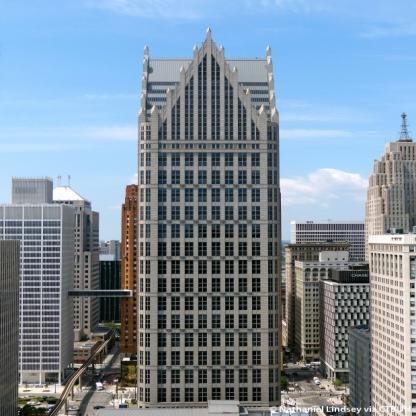Building Outline: (137, 27, 281, 416)
Dont: (95, 400, 327, 416)
Facade: (139, 140, 280, 416)
Floor: (143, 387, 276, 405), (143, 313, 276, 330), (143, 331, 276, 348), (143, 350, 276, 367), (143, 368, 276, 385), (143, 169, 276, 185), (143, 187, 276, 203), (143, 205, 276, 221), (143, 223, 276, 239), (143, 241, 276, 257), (143, 259, 276, 275), (143, 277, 276, 293), (143, 295, 276, 311), (143, 406, 276, 416)
Floor Slab: (143, 293, 276, 295), (143, 275, 276, 277), (143, 239, 276, 241), (143, 221, 276, 223), (143, 203, 276, 205), (143, 185, 276, 187), (143, 167, 276, 169), (143, 405, 276, 406), (143, 367, 276, 368), (143, 348, 276, 349), (143, 330, 276, 331), (143, 312, 276, 313), (143, 257, 276, 258), (143, 385, 276, 386)
Glass Wall: (203, 54, 207, 140), (211, 54, 215, 140), (198, 61, 202, 140), (216, 62, 220, 140), (190, 74, 194, 140), (224, 75, 228, 140), (229, 83, 233, 140), (185, 83, 188, 140), (171, 103, 175, 140), (243, 105, 247, 140), (177, 96, 180, 140), (147, 82, 180, 86), (238, 97, 241, 140), (252, 388, 261, 402), (158, 388, 167, 402), (171, 388, 180, 402), (198, 388, 207, 402), (225, 388, 234, 402), (251, 153, 260, 167), (171, 153, 180, 167), (198, 153, 207, 167), (225, 153, 234, 167), (251, 170, 260, 184), (158, 170, 167, 184), (171, 170, 180, 184), (198, 170, 207, 184), (225, 170, 234, 184), (251, 189, 260, 203), (158, 189, 167, 203), (171, 189, 180, 203), (198, 189, 207, 203), (225, 189, 234, 203), (251, 206, 260, 220), (158, 206, 167, 220), (171, 206, 180, 220), (198, 206, 207, 220), (225, 206, 234, 220), (251, 224, 260, 238), (158, 224, 167, 238), (171, 224, 180, 238), (198, 224, 207, 238), (225, 224, 234, 238), (251, 242, 260, 256), (158, 242, 167, 256), (171, 242, 180, 256), (198, 242, 207, 256), (225, 242, 234, 256), (251, 260, 260, 274), (158, 260, 167, 274), (171, 260, 180, 274), (198, 260, 207, 274), (225, 260, 234, 274), (251, 278, 260, 292), (158, 278, 167, 292), (171, 278, 180, 292), (198, 278, 207, 292), (225, 278, 234, 292), (251, 297, 260, 311), (158, 297, 167, 311), (171, 297, 180, 311), (198, 297, 207, 311), (225, 297, 234, 311), (252, 315, 261, 329), (158, 315, 167, 329), (171, 315, 180, 329), (198, 315, 207, 329), (225, 315, 234, 329), (252, 333, 261, 347), (158, 333, 167, 347), (171, 333, 180, 347), (198, 333, 207, 347), (225, 333, 234, 347), (252, 351, 261, 365), (158, 351, 167, 365), (171, 351, 180, 365), (198, 351, 207, 365), (225, 351, 234, 365), (252, 370, 261, 384), (158, 370, 167, 384), (171, 370, 180, 384), (198, 370, 207, 384), (225, 370, 234, 384), (158, 153, 167, 167), (238, 82, 269, 86), (185, 388, 193, 402), (212, 388, 220, 402), (239, 388, 247, 402), (185, 153, 193, 167), (212, 153, 220, 167), (239, 153, 247, 167), (185, 170, 193, 184), (212, 170, 220, 184), (239, 170, 247, 184), (185, 189, 193, 203), (212, 189, 220, 203), (239, 189, 247, 203), (185, 206, 193, 220), (212, 206, 220, 220), (239, 206, 247, 220), (185, 224, 193, 238), (212, 224, 220, 238), (239, 224, 247, 238), (185, 242, 193, 256), (212, 242, 220, 256), (239, 242, 247, 256), (185, 260, 193, 274), (212, 260, 220, 274), (239, 260, 247, 274), (185, 278, 193, 292), (212, 278, 220, 292), (239, 278, 247, 292), (185, 297, 193, 311), (212, 297, 220, 311), (239, 315, 247, 329), (185, 315, 193, 329), (212, 315, 220, 329), (185, 333, 193, 347), (212, 333, 220, 347), (239, 333, 247, 347), (185, 351, 193, 365), (212, 351, 220, 365), (239, 351, 247, 365), (185, 370, 193, 384), (212, 370, 220, 384), (239, 370, 247, 384), (239, 297, 247, 311), (147, 90, 175, 94), (244, 90, 270, 94), (163, 118, 167, 140), (251, 119, 255, 140), (147, 98, 167, 102), (147, 106, 165, 110), (251, 98, 269, 102), (268, 388, 273, 402), (268, 278, 273, 292), (268, 297, 273, 311), (268, 315, 273, 329), (268, 333, 273, 347), (268, 352, 273, 366), (268, 370, 273, 384), (145, 388, 150, 402), (145, 278, 150, 292), (145, 297, 150, 311), (145, 315, 150, 329), (145, 333, 150, 347), (145, 352, 150, 366), (145, 370, 150, 384), (253, 106, 269, 110), (158, 125, 162, 140), (268, 153, 272, 167), (268, 170, 272, 184), (268, 189, 272, 203), (268, 206, 272, 220), (268, 224, 272, 238), (268, 242, 272, 256), (268, 260, 272, 274), (146, 153, 150, 167), (146, 170, 150, 184), (146, 189, 150, 203), (146, 206, 150, 220), (146, 224, 150, 238), (146, 242, 150, 256), (146, 260, 150, 274), (171, 144, 180, 149), (212, 144, 221, 149), (225, 144, 234, 149), (251, 144, 260, 149), (158, 144, 167, 149), (256, 126, 259, 140), (186, 144, 194, 149), (198, 144, 206, 149), (239, 144, 247, 149), (147, 113, 151, 117), (267, 114, 270, 118)
Top Floor: (143, 140, 276, 167)
